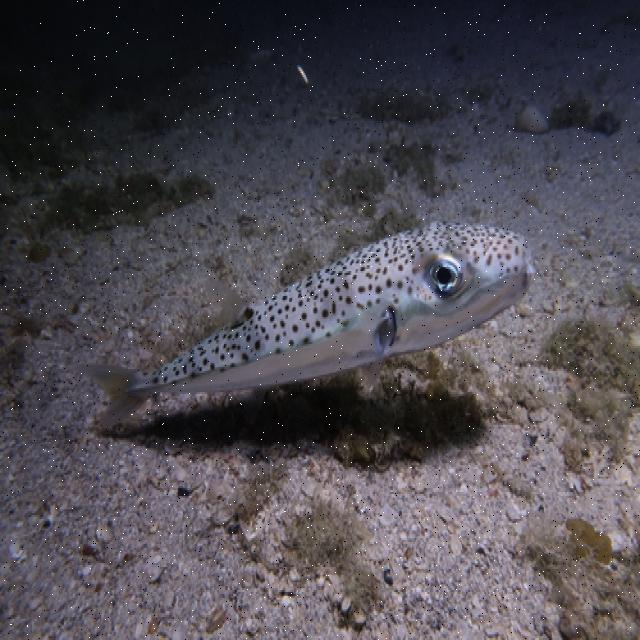Balik: (80, 223, 533, 426)
